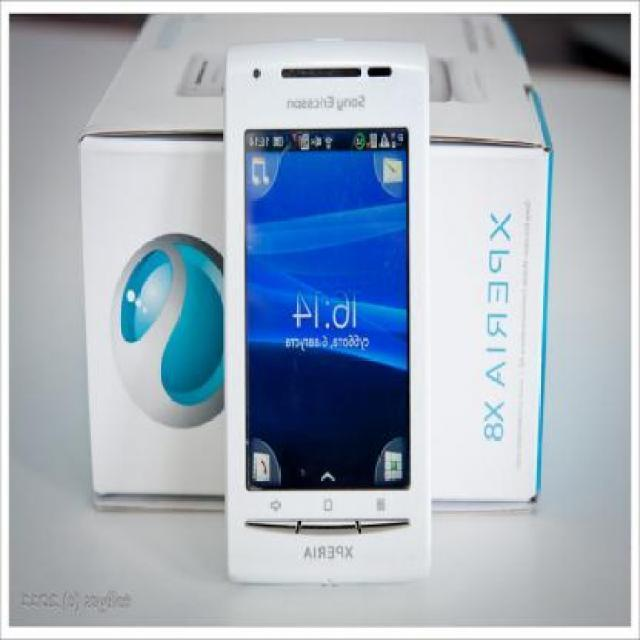phone: (223, 12, 429, 590)
